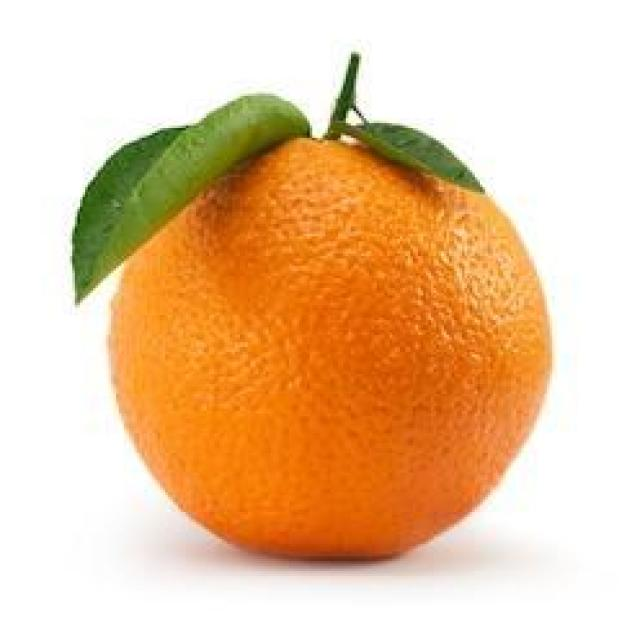orange: (105, 133, 552, 564)
